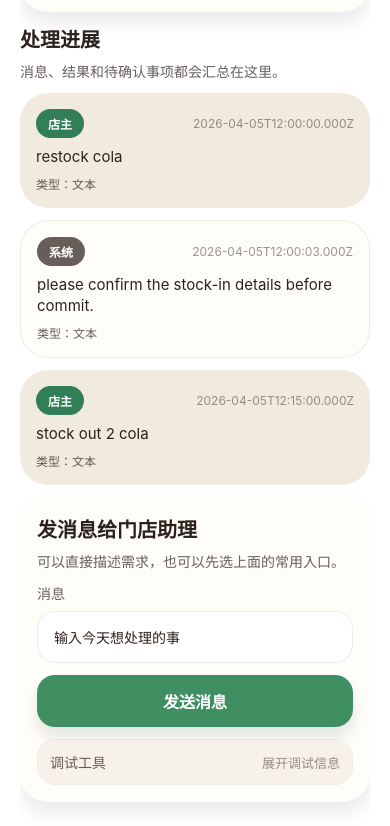
Test: ChatScreen › sends a voice stock-out demo through upload request, completion, and final message post
This screenshot has width=390, height=826.
(page scrolled)
Click the button labelled "调试工具 展开调试信息".
click(78, 762)  # box [38,740,352,784]
(page scrolled)
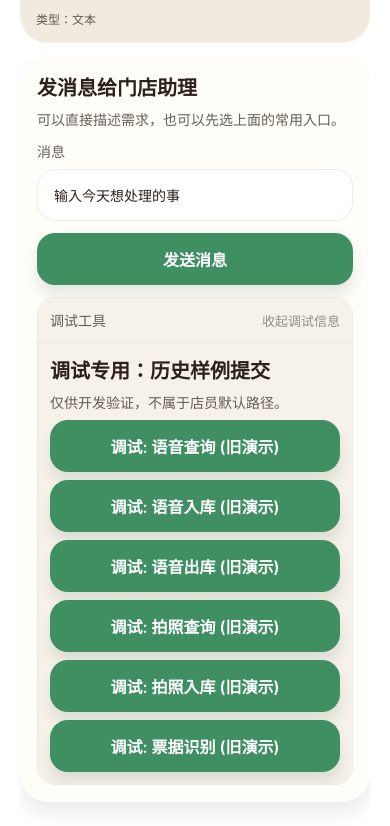
Check: the text "调试: 语音查询 (旧演示)" is shown, box [110,434,280,458]
Click the button "调试: 语音出库 (旧演示)".
click(195, 566)  # box [50,540,340,592]
(page scrolled)
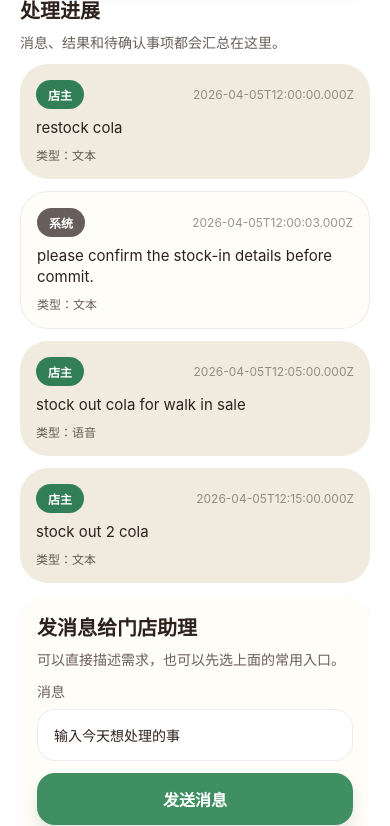
Check: the text "stock out cola for walk in sale" is shown, box [36,395,246,414]
